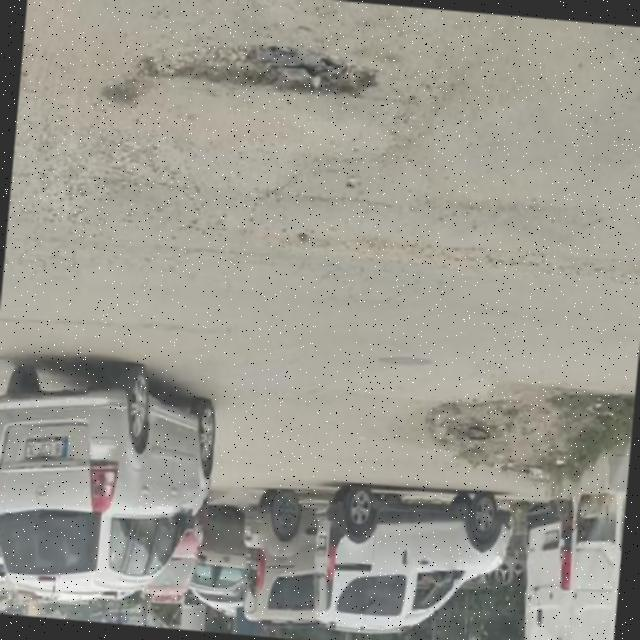Pothole: (103, 43, 377, 101)
